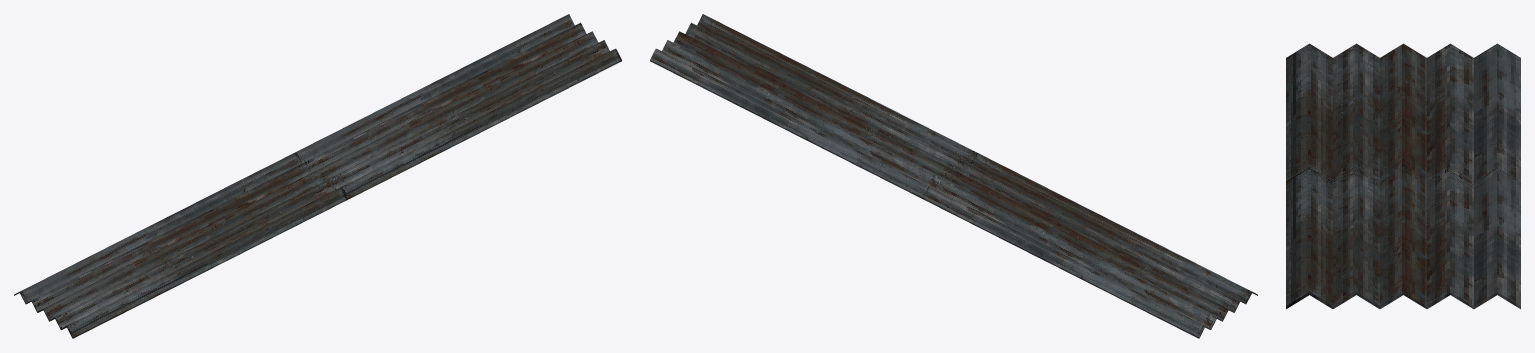
The model's file is roof_hr_3_side_2_angle_edge_1.glb.
The picture shows the model from 3 angles, left to right: view 1: azimuth 30°, elevation 25°; view 2: azimuth 150°, elevation 25°; view 3: azimuth 270°, elevation 25°; orthographic projection. The views are drawn at different scales.
Parts seen in each view (by area): view 1: roof_hr_3_side_2_angle_edge_1; view 2: roof_hr_3_side_2_angle_edge_1; view 3: roof_hr_3_side_2_angle_edge_1.
Part boxes in pixels (x1,y1,x2,y2): roof_hr_3_side_2_angle_edge_1: [14, 14, 621, 338]; roof_hr_3_side_2_angle_edge_1: [650, 14, 1257, 338]; roof_hr_3_side_2_angle_edge_1: [1286, 43, 1520, 309].
Size of the model in its own units: 4 by 1.06 by 0.7407.
Materials: 1 (1 with a texture image).
